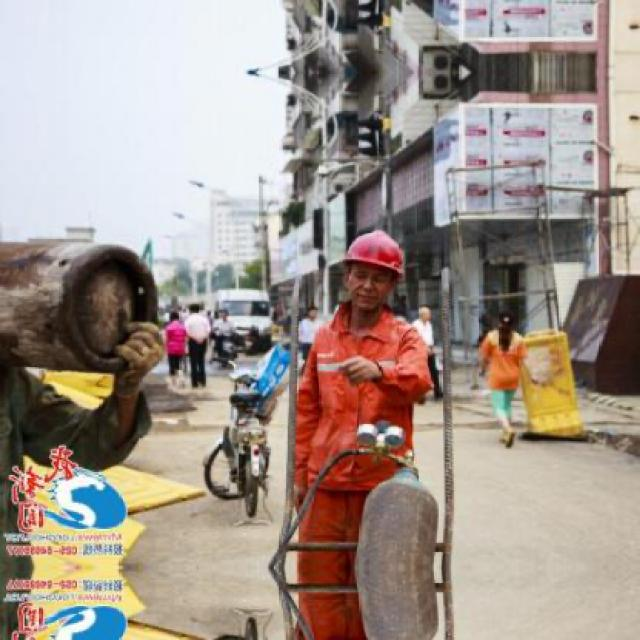helmet: (332, 221, 410, 316)
